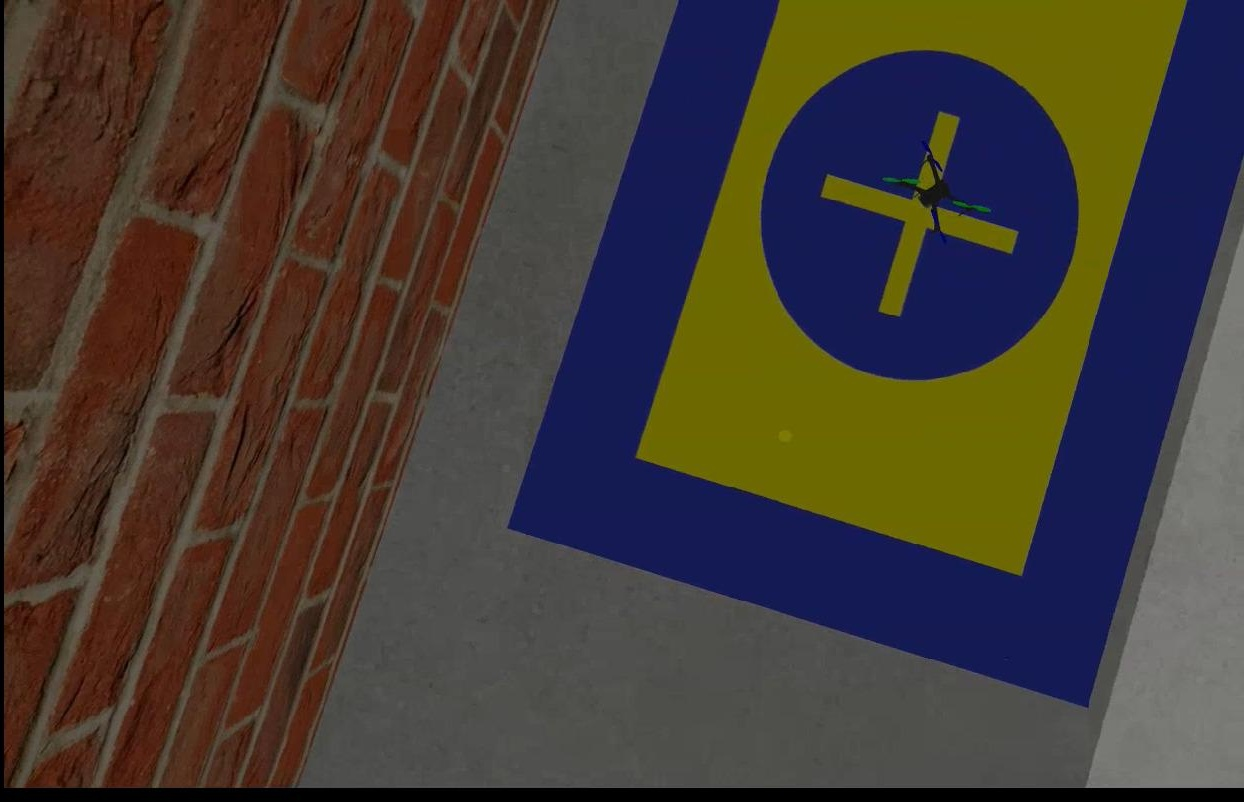large_base: (509, 1, 1242, 707)
